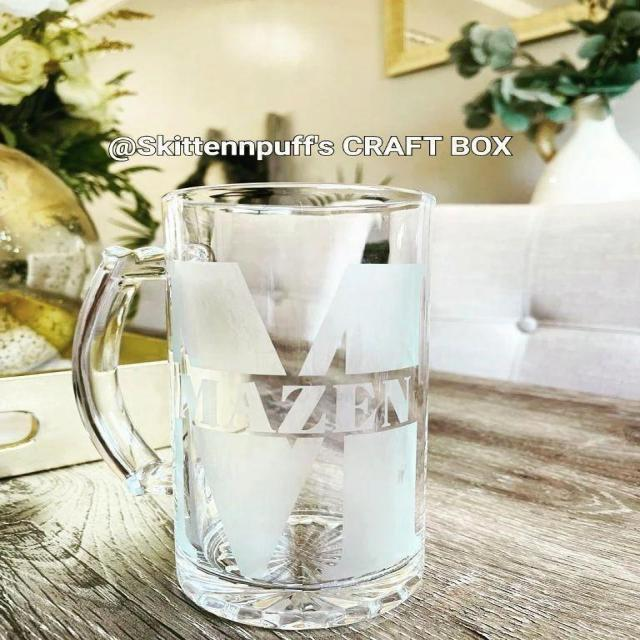glass-mug: (66, 172, 437, 631)
